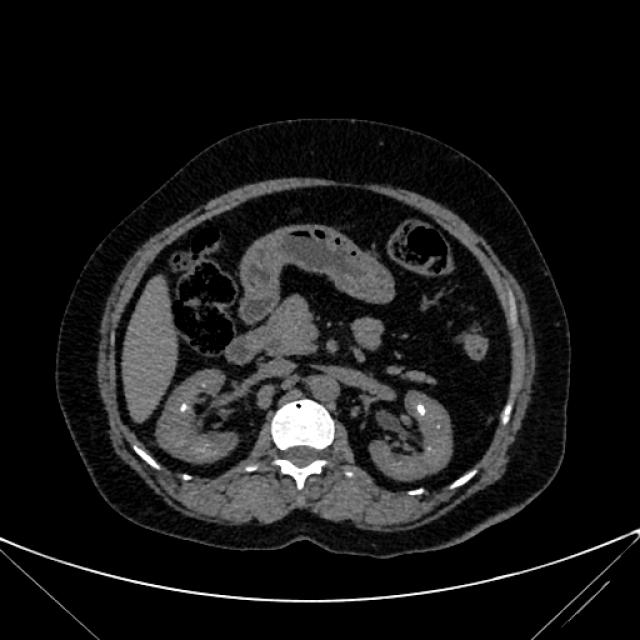kidney: (368, 391, 445, 473), (162, 374, 234, 461)
stone: (180, 403, 187, 412), (419, 405, 425, 414), (199, 383, 206, 388), (428, 446, 431, 450), (438, 426, 440, 430)
